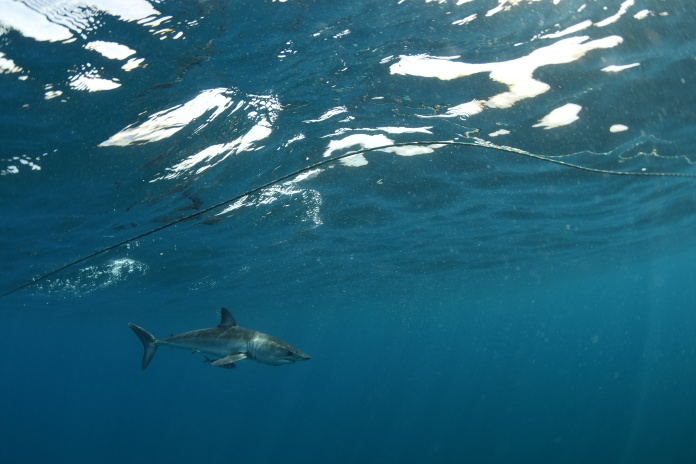Mako: (114, 305, 318, 379)
